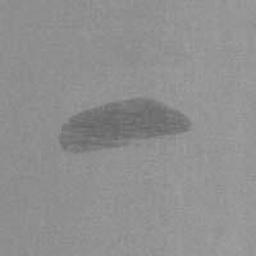Oil spot: (58, 95, 193, 157)
